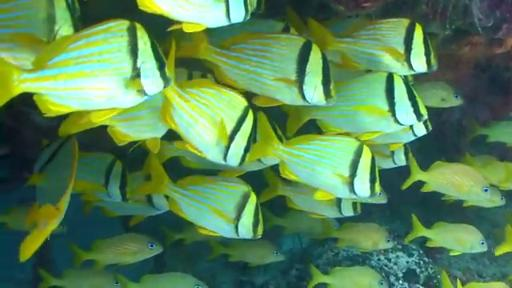Fish: (0, 20, 171, 115), (176, 32, 334, 106), (248, 112, 381, 199), (138, 155, 263, 239), (285, 72, 427, 139), (162, 80, 256, 166), (19, 137, 78, 262), (308, 19, 438, 75), (59, 92, 168, 152), (259, 169, 360, 218), (85, 172, 168, 226), (157, 141, 279, 176), (137, 0, 263, 32), (402, 156, 490, 200), (404, 214, 487, 255), (0, 0, 80, 42), (72, 233, 163, 268), (86, 193, 168, 226), (73, 152, 127, 201), (205, 18, 296, 46), (262, 208, 339, 238), (209, 240, 285, 266), (329, 223, 394, 251), (461, 154, 511, 190), (308, 265, 388, 287), (0, 34, 47, 68), (39, 269, 122, 287), (116, 272, 207, 287), (412, 81, 463, 107), (163, 224, 218, 246), (367, 144, 410, 168), (472, 120, 511, 146), (463, 187, 506, 207), (0, 206, 33, 231), (174, 68, 215, 84), (495, 224, 511, 255), (456, 279, 509, 287), (463, 282, 509, 287), (440, 271, 453, 287), (320, 125, 329, 131)
